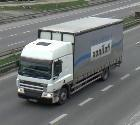truck: (16, 17, 123, 106)
